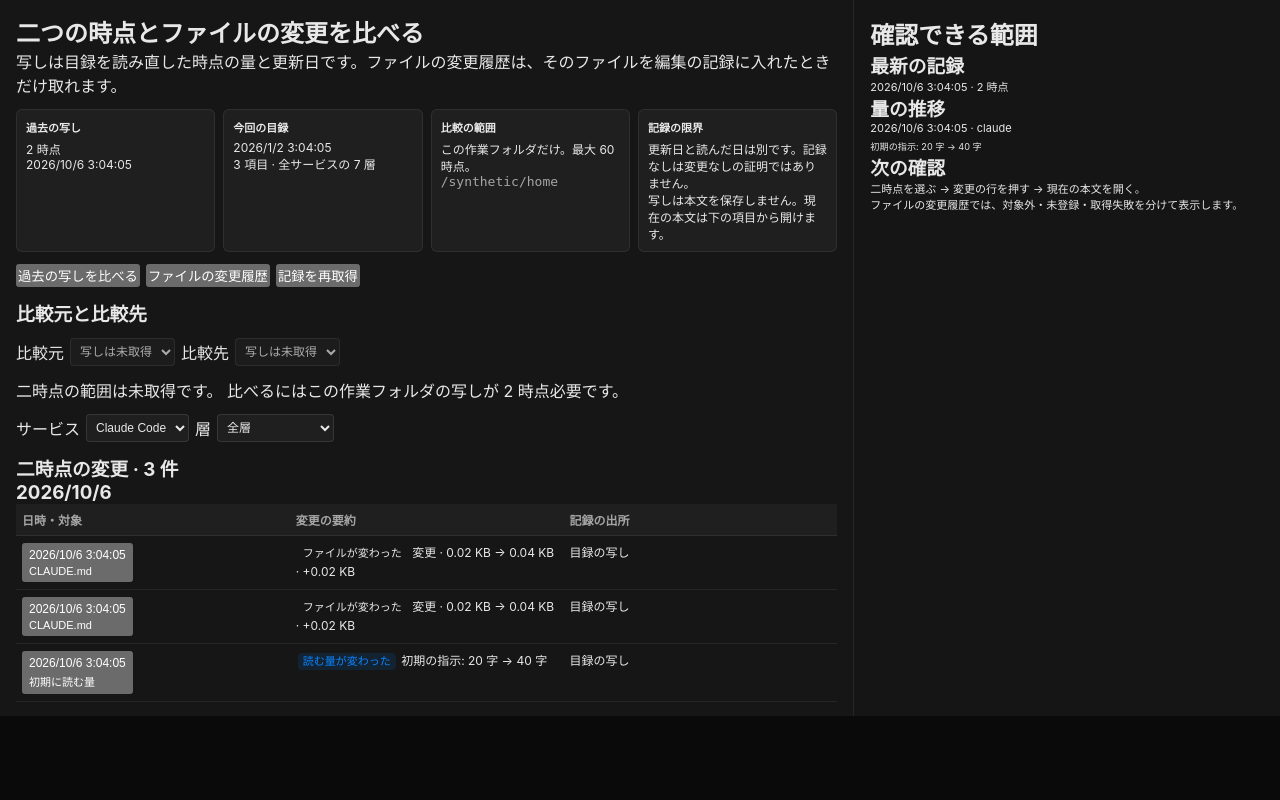
Test: agent design history › filters by layer, by reading amount, and by search without Git reads
Select "記憶と記録" in the dropdown named "履歴の層". click: (276, 428)
box: [217,414,334,442]
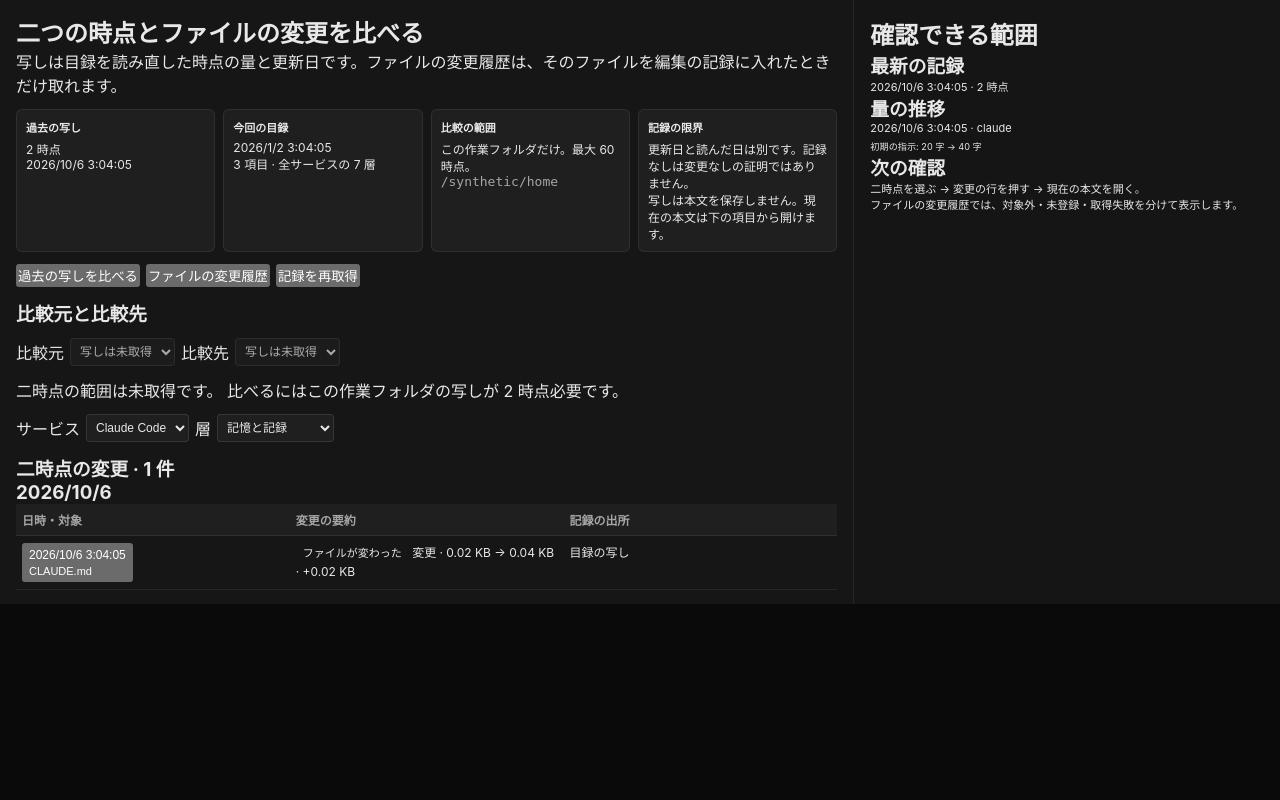
Select "読む量" in the dropdown named "履歴の層". click: (276, 428)
box: [217,414,334,442]
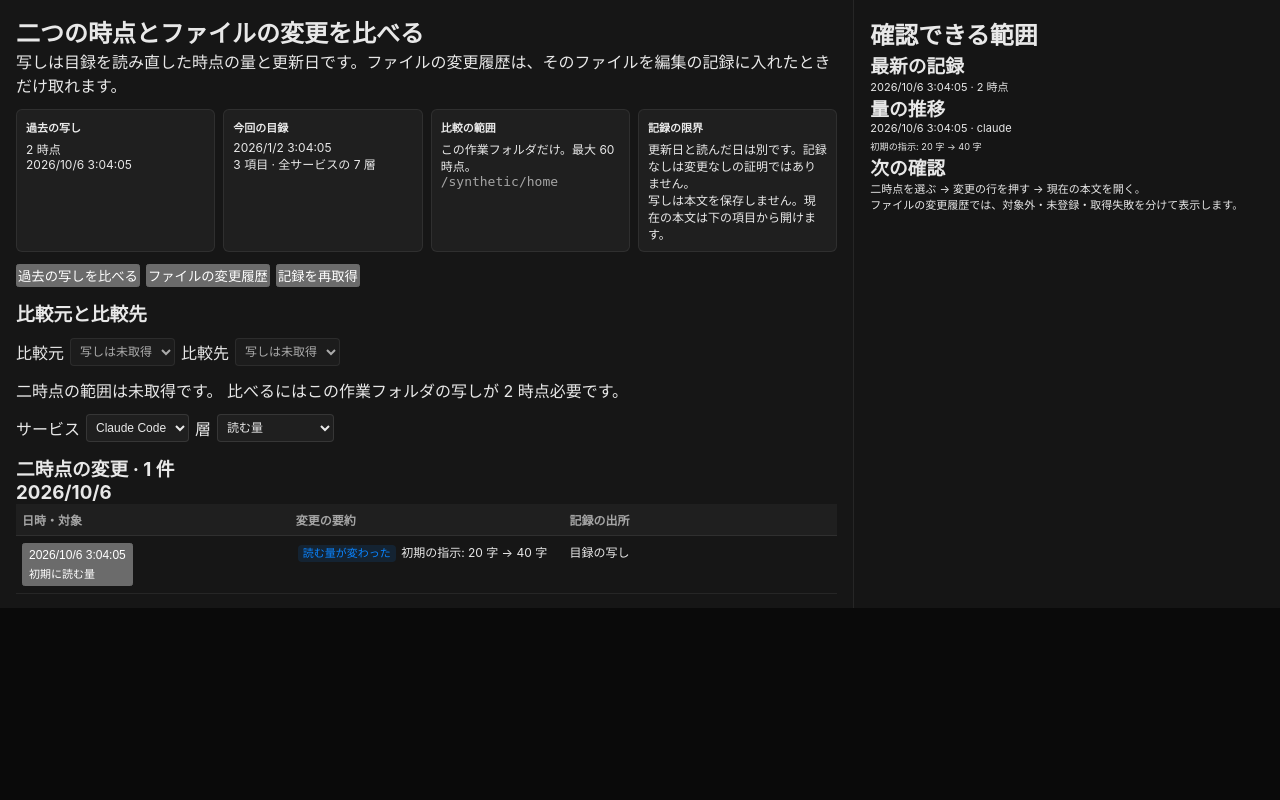
expect the button "2026/10/6 3:04:05 初期に読む量" is shown: met, box [22,543,133,586]
Select "全層" in the dropdown named "履歴の層". click: (276, 428)
box: [217,414,334,442]
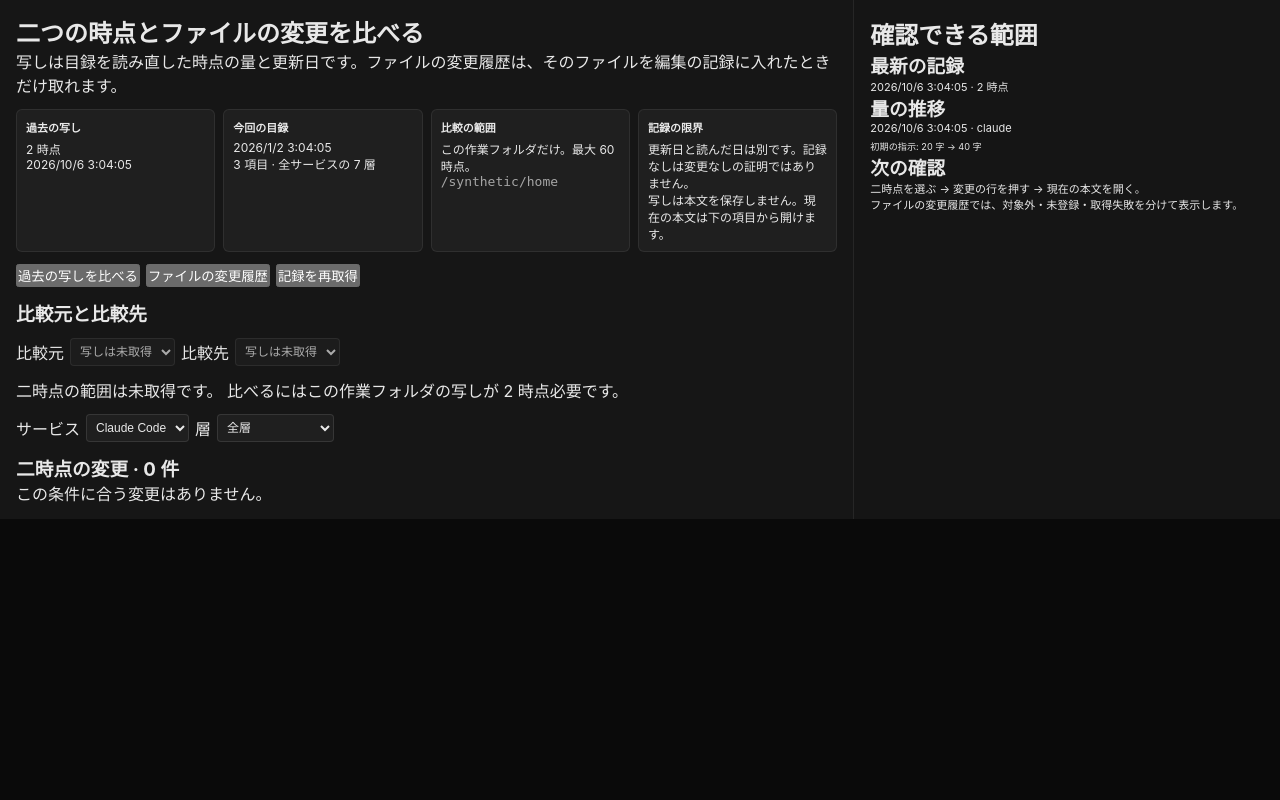
expect the text "この条件に合う変更はありません。" is shown: met, box [16,484,272,504]
